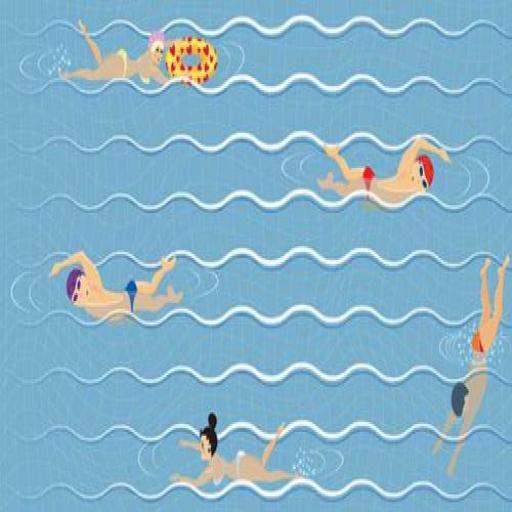swimming: (430, 250, 510, 479), (168, 408, 306, 494), (316, 131, 452, 211), (48, 246, 184, 326), (56, 16, 171, 90)
